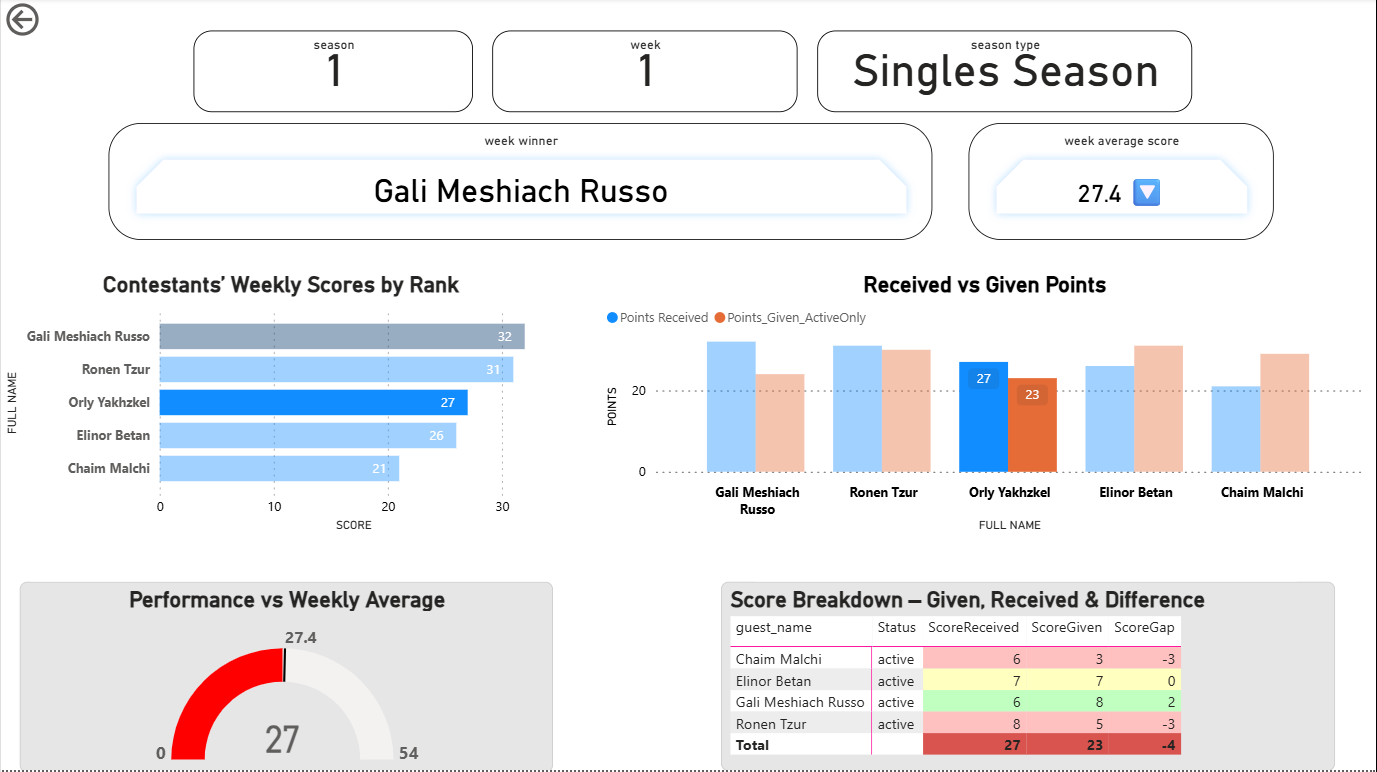

What the dashboard file says about the page in this screenshot:
{"tool":"powerbi","page":{"name":"Page 2","canvas":[1280,720],"ordinal":1},"visuals":[{"type":"card","title":"season","fields":{"Values":["Min(weeks.season)"]},"box":[178.8,30,260,76.2],"z":0},{"type":"card","title":"week","fields":{"Values":["Sum(weeks.week)"]},"box":[457.5,30,283.8,76.2],"z":1000},{"type":"card","title":"season type","fields":{"Values":["Min(weeks.season_type)"]},"box":[758.8,30,348.8,76.2],"z":2000},{"type":"actionButton","box":[0,0,100,40],"z":3000},{"type":"cardVisual","title":"week winner","fields":{"Data":["Min(weeks.winner_name)"]},"box":[100,116.2,766.2,108.8],"z":5000},{"type":"cardVisual","title":"week average score","fields":{"Data":["overall_scores.Weekly_vs_Season_With_Arrow"]},"box":[900,116.2,283.8,108.8],"z":6000},{"type":"clusteredColumnChart","title":"Received vs Given Points","fields":{"Category":["overall_scores.full_name"],"Y":["Sum(overall_scores.score)","overall_scores.Points_Given_ActiveOnly"]},"box":[557.6,254.3,714.1,247],"z":7000},{"type":"clusteredBarChart","title":"Contestants’ Weekly Scores by Rank","fields":{"Category":["overall_scores.full_name","overall_scores.participant_id"],"Y":["Sum(overall_scores.score)"]},"box":[0,254.3,520.9,247],"z":8000},{"type":"pivotTable","title":"Score Breakdown – Given, Received & Difference","fields":{"Values":["weekly_score.Status_Display","weekly_score.ScoreReceived","weekly_score.ScoreGiven22","weekly_score.ScoreGap"],"Rows":["weekly_score.guest_name"]},"box":[670.1,542.9,571.1,176.1],"z":9000},{"type":"gauge","title":"Performance vs Weekly Average","fields":{"TargetValue":["overall_scores.AverageScoreDisplay"],"Y":["overall_scores.ScoreToShow"]},"box":[17.5,542.5,496.2,177.5],"z":10000},{"type":"card","fields":{"Values":["overall_scores.SelectParticipantMessage1"]},"box":[28.1,501.4,489.1,41.6],"z":11000},{"type":"card","fields":{"Values":["overall_scores.SelectParticipantMessage1"]},"box":[700.7,501.4,503.8,41.6],"z":12000}]}

Visuals, with their boxes in screenshot pixels (x1, y1, x2, y2), scaled from the page's 1280x720 canvas onto the 1377x772 screenshot:
"season" card: select_region(192, 32, 472, 114)
"week" card: select_region(492, 32, 797, 114)
"season type" card: select_region(816, 32, 1192, 114)
actionButton: select_region(0, 0, 108, 43)
"week winner" cardVisual: select_region(108, 125, 932, 241)
"week average score" cardVisual: select_region(968, 125, 1274, 241)
"Received vs Given Points" clusteredColumnChart: select_region(600, 273, 1368, 538)
"Contestants’ Weekly Scores by Rank" clusteredBarChart: select_region(0, 273, 560, 538)
"Score Breakdown – Given, Received & Difference" pivotTable: select_region(721, 582, 1335, 771)
"Performance vs Weekly Average" gauge: select_region(19, 582, 553, 771)
card - overall_scores.SelectParticipantMessage1: select_region(30, 538, 556, 582)
card - overall_scores.SelectParticipantMessage1: select_region(754, 538, 1296, 582)
